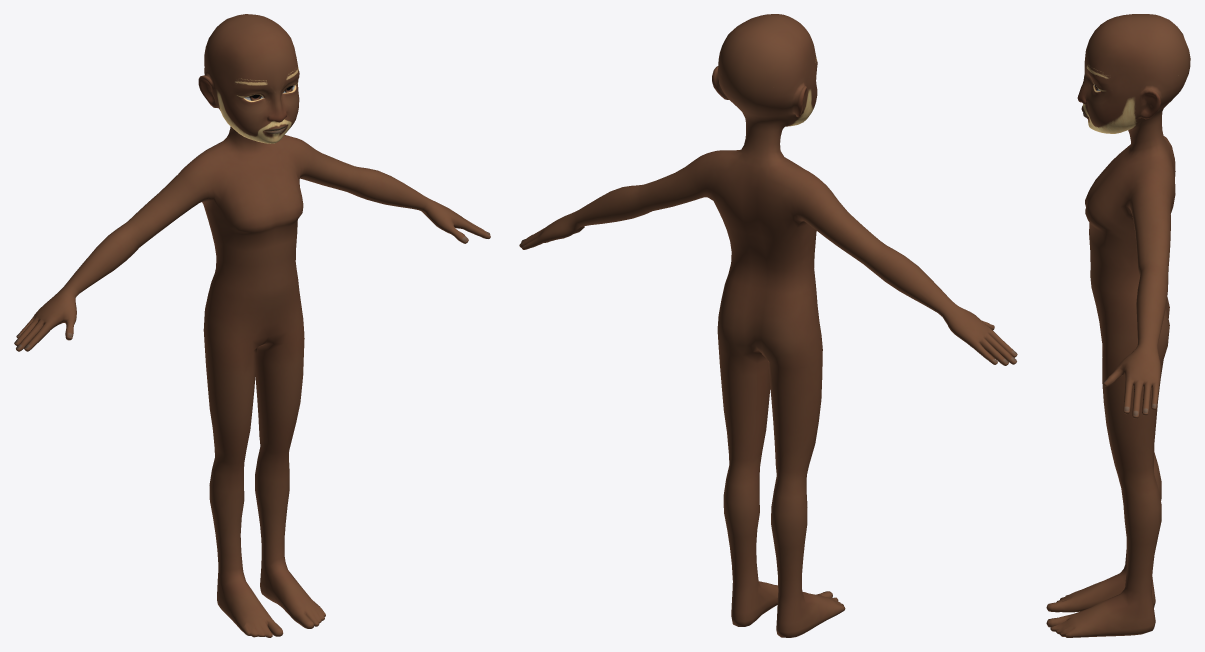
Rendered from frame_0066.glb.
3 renders of one model, left to right at view 1: azimuth 30°, elevation 25°; view 2: azimuth 150°, elevation 25°; view 3: azimuth 270°, elevation 25°, orthographic. The views are drawn at different scales.
Parts seen in each view (by area): view 1: frame_0066_head_geo; view 2: frame_0066_head_geo; view 3: frame_0066_head_geo.
Part boxes in pixels (<box>): frame_0066_head_geo: <box>14,14,490,637</box>; frame_0066_head_geo: <box>519,14,1017,637</box>; frame_0066_head_geo: <box>1046,14,1190,637</box>.
Bounding box in the file's own units: 1.28 × 1.5 × 0.3253.
3 materials, 3 textured.
